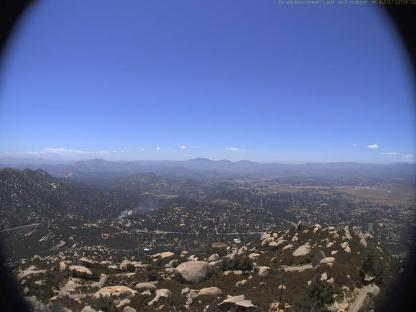smoke: (119, 199, 155, 218)
